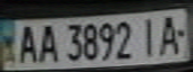2: (112, 17, 139, 61)
3: (60, 20, 84, 62)
8: (78, 20, 100, 62)
9: (97, 19, 118, 61)
A: (154, 11, 187, 56), (12, 21, 42, 64), (33, 21, 60, 63)
I: (136, 14, 163, 57)
